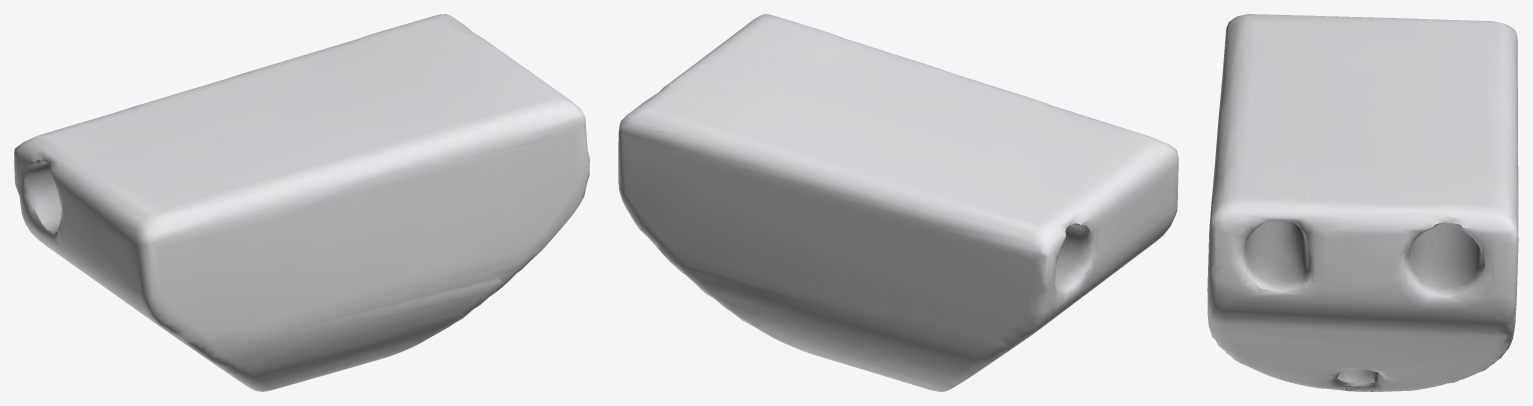
The model's file is right_thomb_midle.glb.
The picture shows the model from 3 angles, left to right: view 1: azimuth 30°, elevation 25°; view 2: azimuth 150°, elevation 25°; view 3: azimuth 270°, elevation 25°; orthographic projection. The views are drawn at different scales.
Visible parts, largest first — view 1: right_thomb_midle; view 2: right_thomb_midle; view 3: right_thomb_midle.
Part boxes in pixels (x1=…): right_thomb_midle: x1=14, y1=14, x2=589, y2=391; right_thomb_midle: x1=618, y1=14, x2=1178, y2=391; right_thomb_midle: x1=1207, y1=14, x2=1518, y2=391.
Bounding box in the file's own units: 0.0254 × 0.0142 × 0.0143.
1 material, 1 textured.
